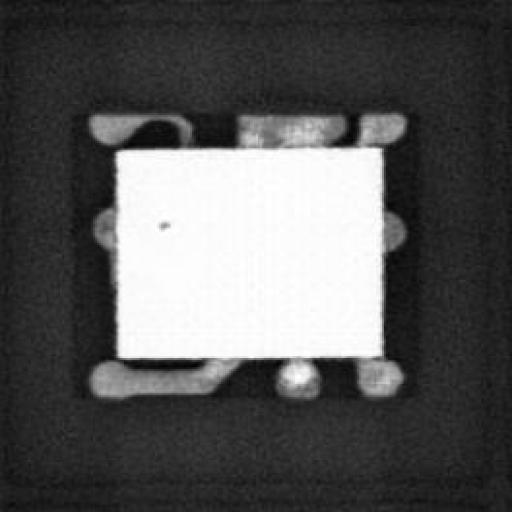DIE_INK: (151, 215, 171, 232)
